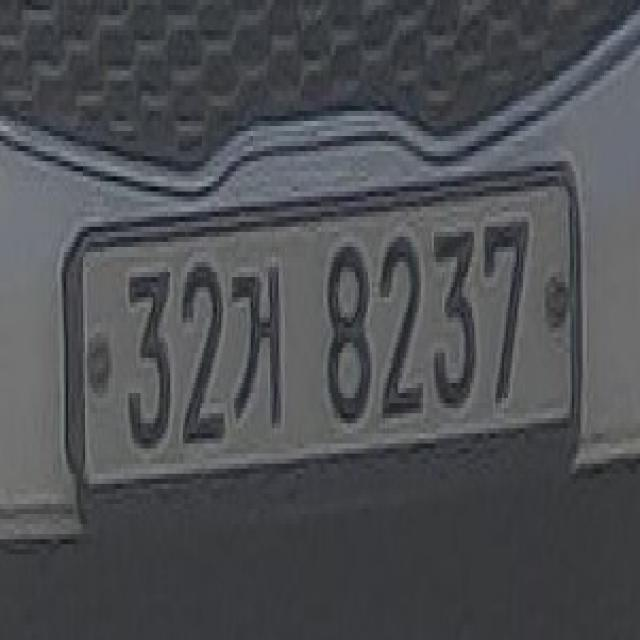2: (374, 227, 428, 423), (178, 257, 226, 443)
3: (429, 222, 478, 418), (126, 257, 174, 454)
7: (481, 212, 532, 408)
8: (323, 232, 374, 428)
geo: (227, 252, 285, 433)
license_plate: (74, 176, 578, 484)
